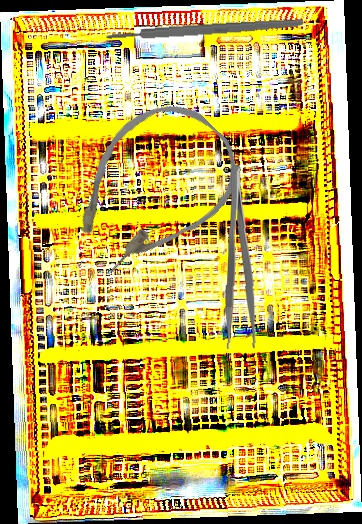Cannula: (45, 81, 258, 296)
Dressing Forceps: (224, 164, 260, 350)
Scalpel Handle: (105, 17, 305, 42)
